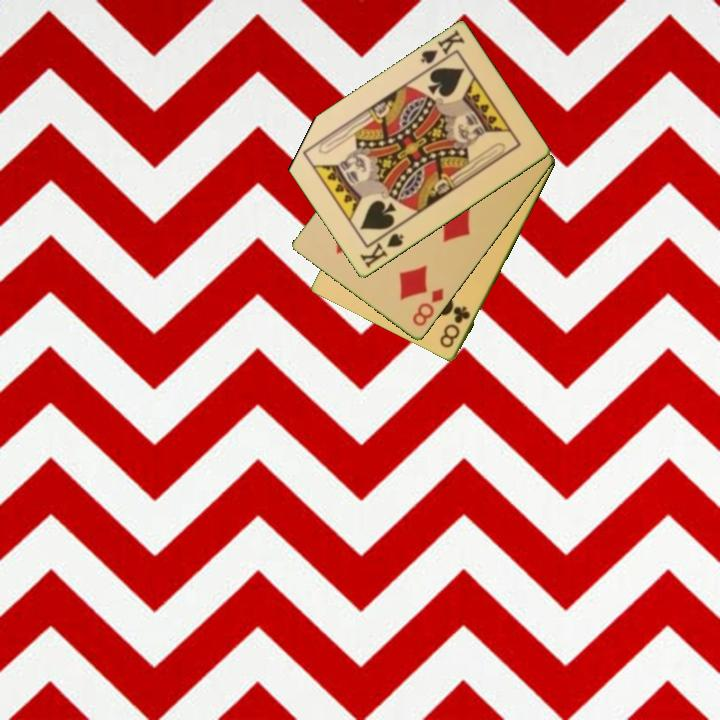8c: (436, 303, 474, 351)
8d: (409, 285, 447, 330)
Ks: (417, 27, 468, 74), (356, 230, 407, 272)
